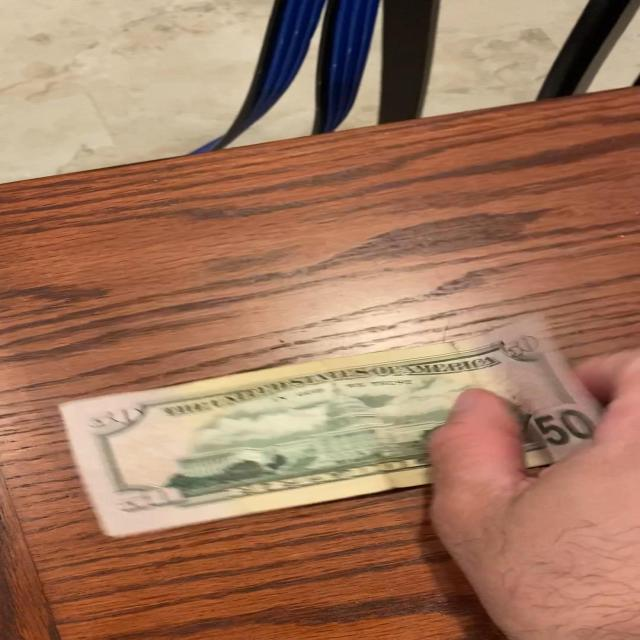50-Back: (61, 313, 640, 543)
